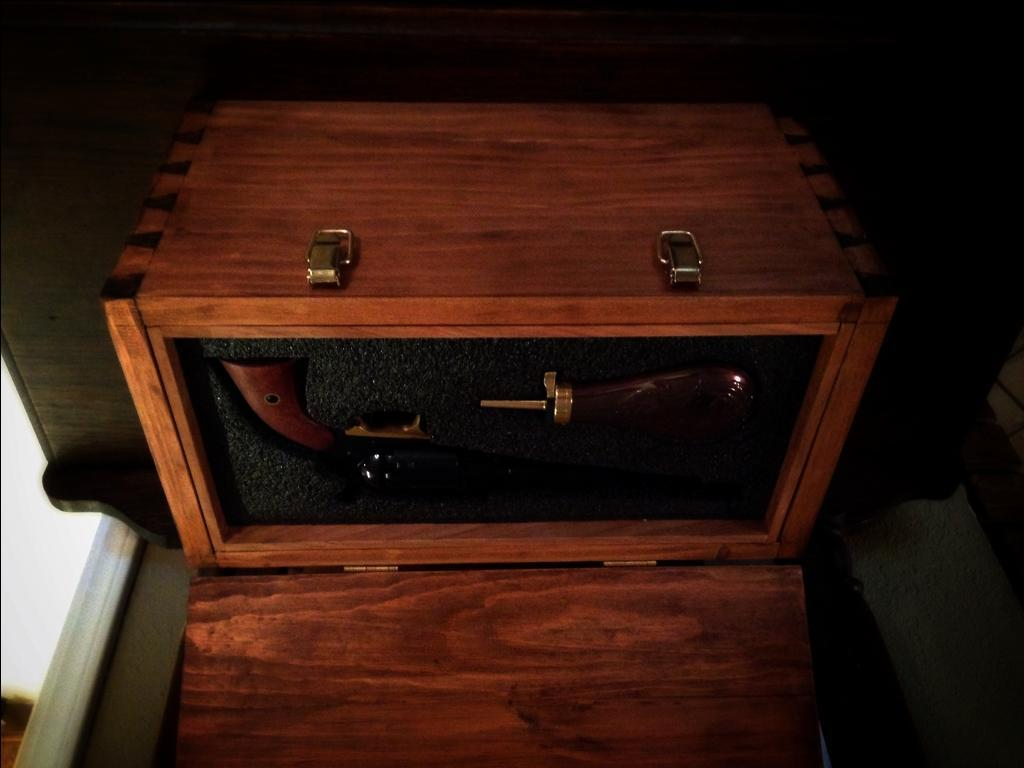gun: (217, 354, 739, 511)
